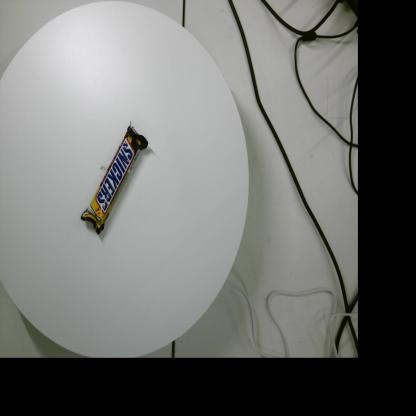Chocolate: (81, 121, 148, 235)
